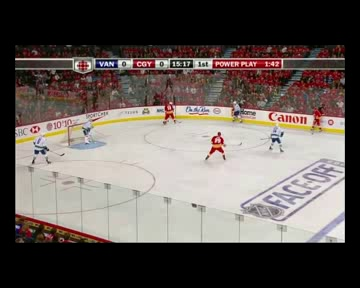normal: (153, 98, 182, 129), (203, 129, 231, 160)
